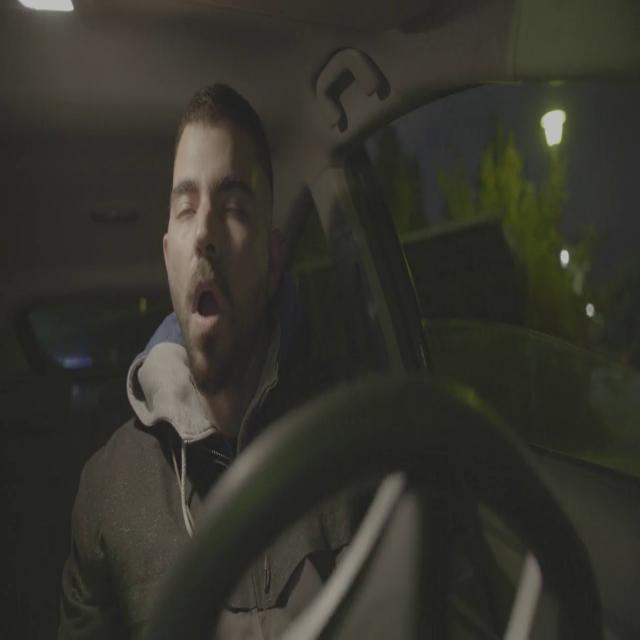open-mouth: (190, 274, 225, 336)
